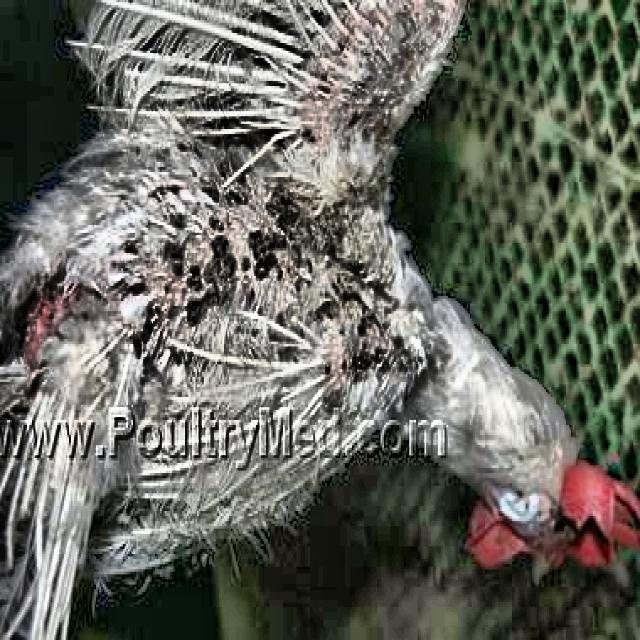Fowlpox: (135, 134, 421, 411)
